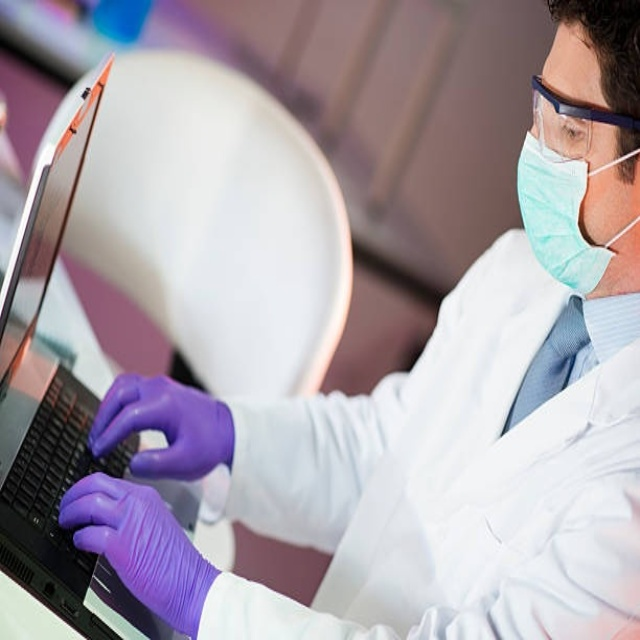Gafas: (528, 75, 639, 159)
Guantes: (63, 471, 218, 639), (87, 372, 235, 494)
Mascara: (516, 119, 628, 295)
